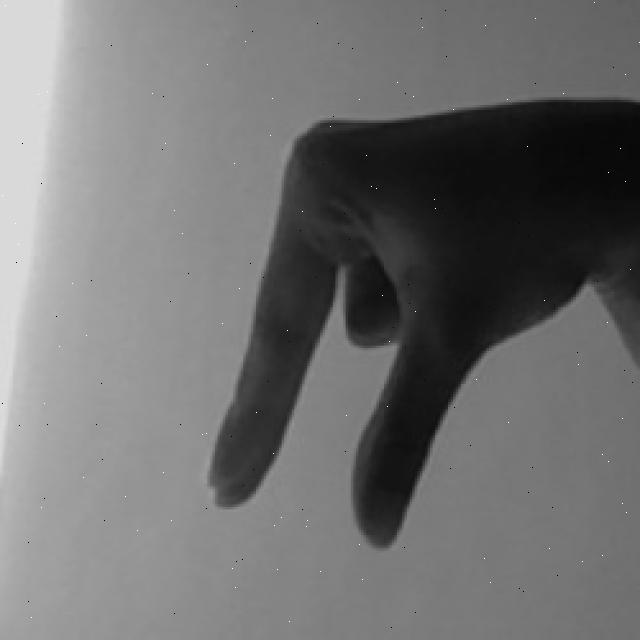Q: (201, 88, 640, 559)
